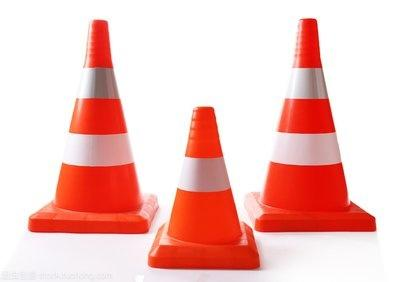cone_barrel: (251, 18, 357, 232), (39, 22, 148, 230), (150, 105, 248, 265)
